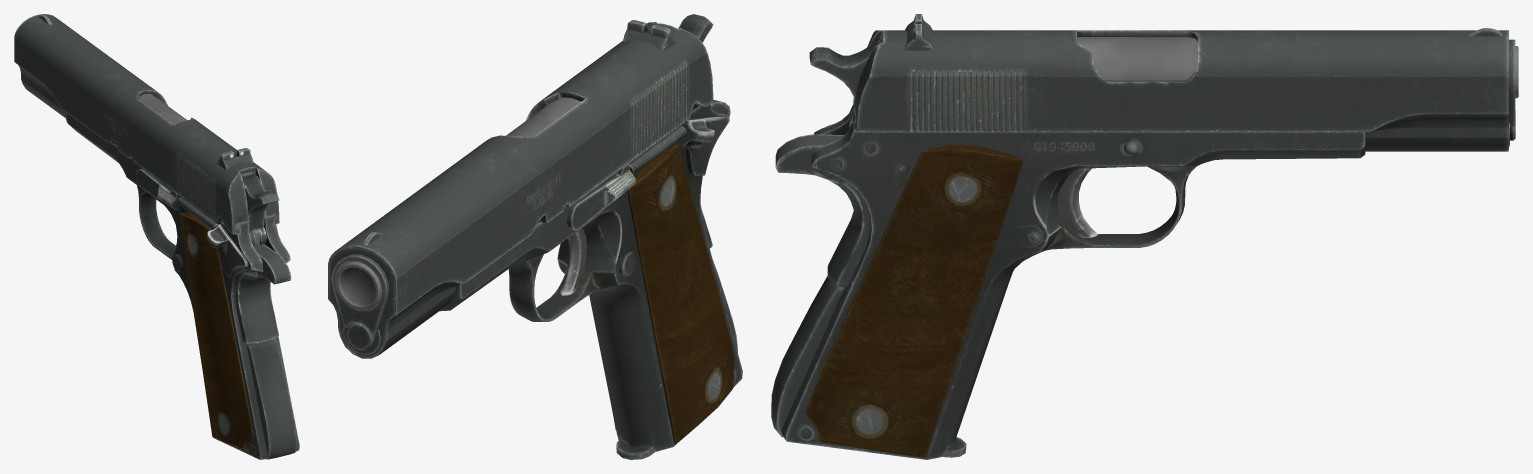
The picture shows the model from 3 angles, left to right: view 1: azimuth 30°, elevation 25°; view 2: azimuth 150°, elevation 25°; view 3: azimuth 270°, elevation 25°; orthographic projection. The views are drawn at different scales.
Size of the model in its own units: 0.0314 by 0.1367 by 0.216.
Materials: 1 (1 with a texture image).
